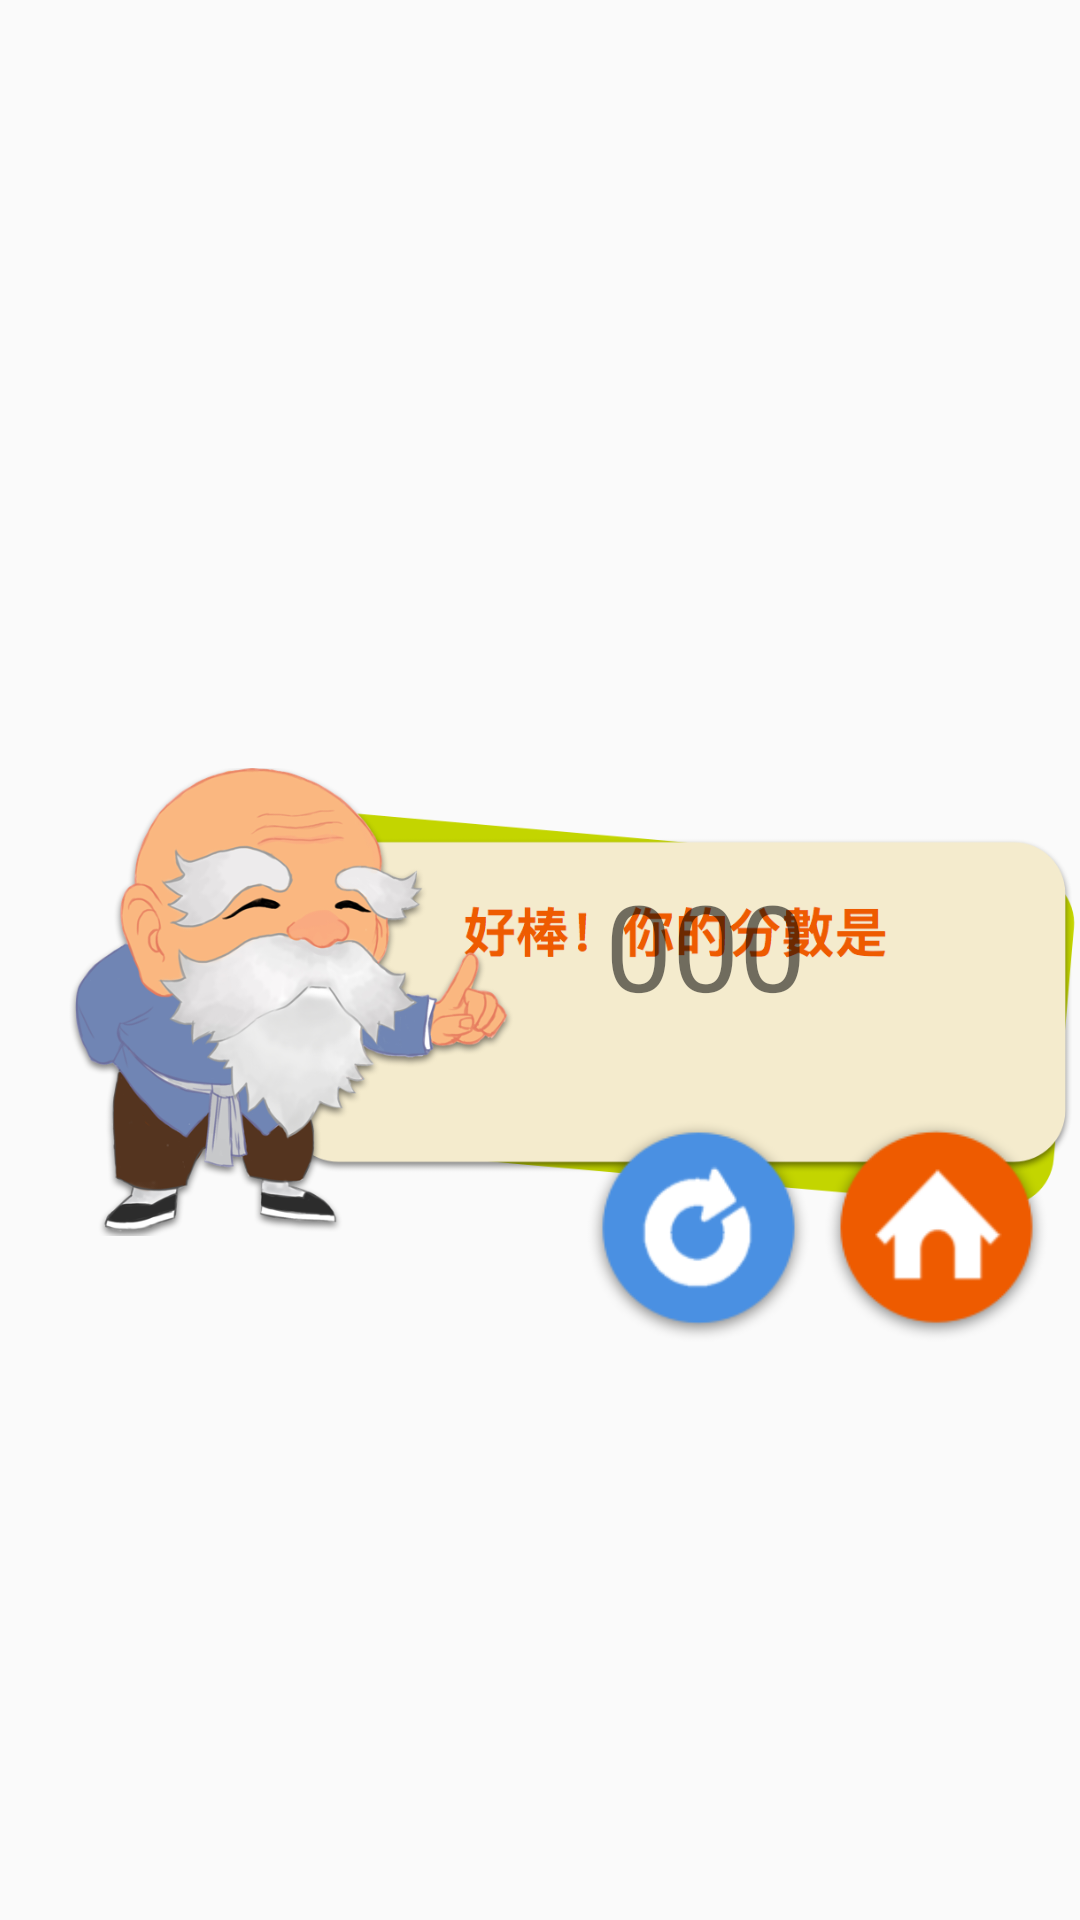

Named icons in this screenshot (1080 x 1920) and their bounding boxes, {"x1": x1, "y1": y1, "x2": x2, "y2": y2}:
scoreboard home: {"x1": 825, "y1": 1119, "x2": 1050, "y2": 1332}
scoreboard replay: {"x1": 585, "y1": 1119, "x2": 810, "y2": 1333}
